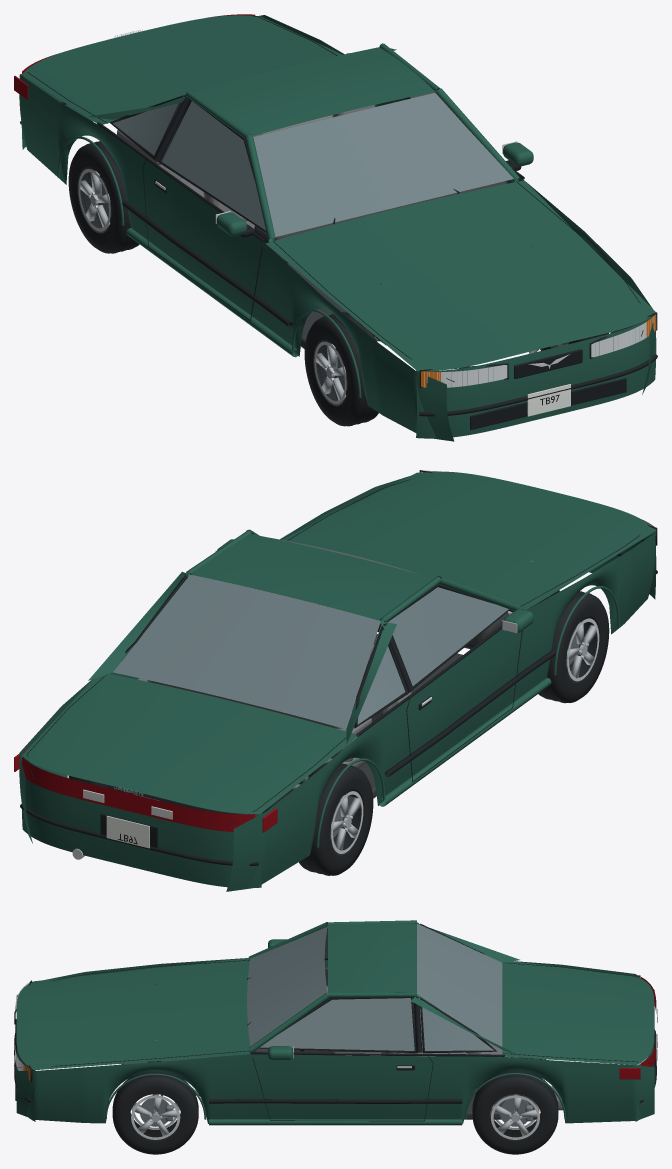
Rendered from juan_tb97.dae.
The picture shows the model from 3 angles, top to bottom: view 1: azimuth 30°, elevation 25°; view 2: azimuth 150°, elevation 25°; view 3: azimuth 270°, elevation 25°; orthographic projection. The views are drawn at different scales.
Visible parts, largest first — view 1: juan_tb97_body, juan_tb97_glass, juan_tb97_trim, juan_tb97_rubber_FR, juan_tb97_rubber_RR, juan_tb97_interior, juan_tb97_rim_FR, juan_tb97_rim_RR; view 2: juan_tb97_body, juan_tb97_glass, juan_tb97_trim, juan_tb97_rubber_RR, juan_tb97_rubber_FR, juan_tb97_interior, juan_tb97_rim_FR, juan_tb97_rim_RR; view 3: juan_tb97_body, juan_tb97_glass, juan_tb97_trim, juan_tb97_rubber_RL, juan_tb97_rubber_FL, juan_tb97_interior, juan_tb97_rim_FL, juan_tb97_rim_RL, juan_tb97_hubmesh_FL, juan_tb97_hubmesh_RL.
Boxes of the visible parts, x1=… form: juan_tb97_body: x1=19, y1=15, x2=656, y2=441; juan_tb97_glass: x1=113, y1=92, x2=513, y2=236; juan_tb97_trim: x1=14, y1=14, x2=657, y2=429; juan_tb97_rubber_FR: x1=304, y1=312, x2=378, y2=426; juan_tb97_rubber_RR: x1=68, y1=141, x2=139, y2=253; juan_tb97_interior: x1=117, y1=105, x2=507, y2=348; juan_tb97_rim_FR: x1=314, y1=341, x2=346, y2=404; juan_tb97_rim_RR: x1=78, y1=169, x2=110, y2=231; juan_tb97_body: x1=19, y1=471, x2=656, y2=891; juan_tb97_glass: x1=113, y1=538, x2=508, y2=729; juan_tb97_trim: x1=14, y1=470, x2=657, y2=865; juan_tb97_rubber_RR: x1=299, y1=762, x2=373, y2=875; juan_tb97_rubber_FR: x1=538, y1=591, x2=609, y2=703; juan_tb97_interior: x1=108, y1=587, x2=508, y2=820; juan_tb97_rim_FR: x1=566, y1=618, x2=599, y2=681; juan_tb97_rim_RR: x1=330, y1=791, x2=363, y2=853; juan_tb97_body: x1=16, y1=920, x2=654, y2=1125; juan_tb97_glass: x1=247, y1=923, x2=502, y2=1050; juan_tb97_trim: x1=14, y1=922, x2=657, y2=1121; juan_tb97_rubber_RL: x1=472, y1=1071, x2=558, y2=1154; juan_tb97_rubber_FL: x1=112, y1=1071, x2=198, y2=1154; juan_tb97_interior: x1=209, y1=967, x2=539, y2=1119; juan_tb97_rim_FL: x1=131, y1=1095, x2=180, y2=1139; juan_tb97_rim_RL: x1=491, y1=1095, x2=539, y2=1139; juan_tb97_hubmesh_FL: x1=140, y1=1098, x2=173, y2=1126; juan_tb97_hubmesh_RL: x1=500, y1=1098, x2=532, y2=1126.
Size of the model in its own units: 2.14 by 5.14 by 1.35.
